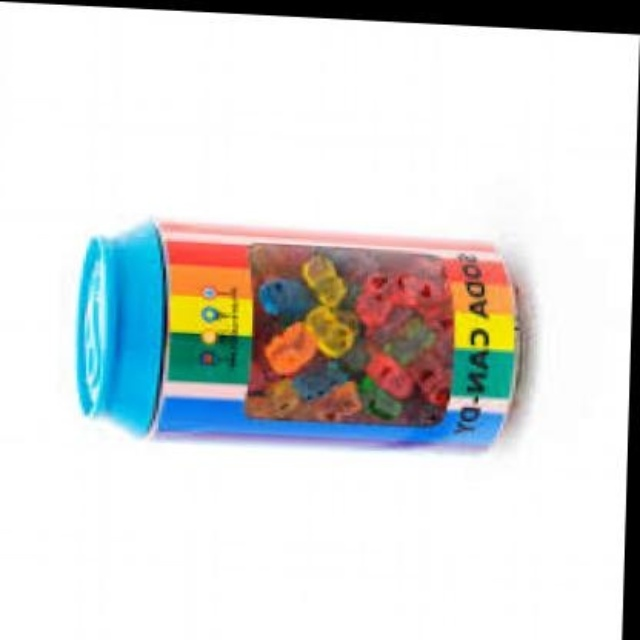trash: (77, 222, 517, 445)
